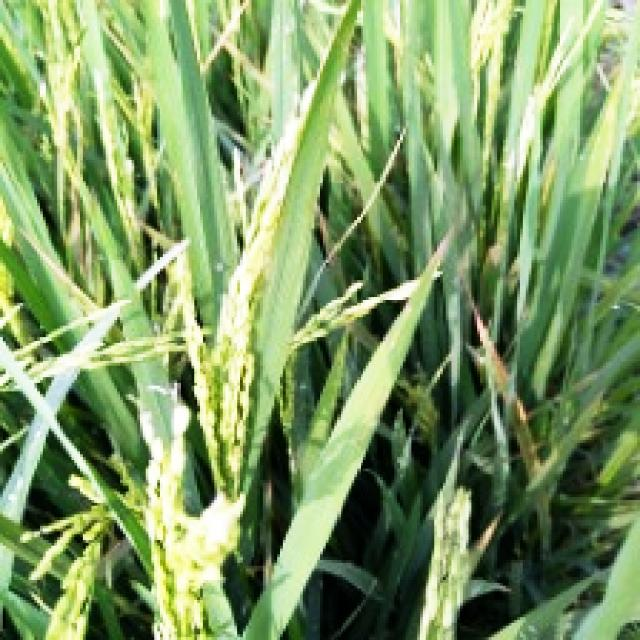health: (162, 10, 268, 505)
